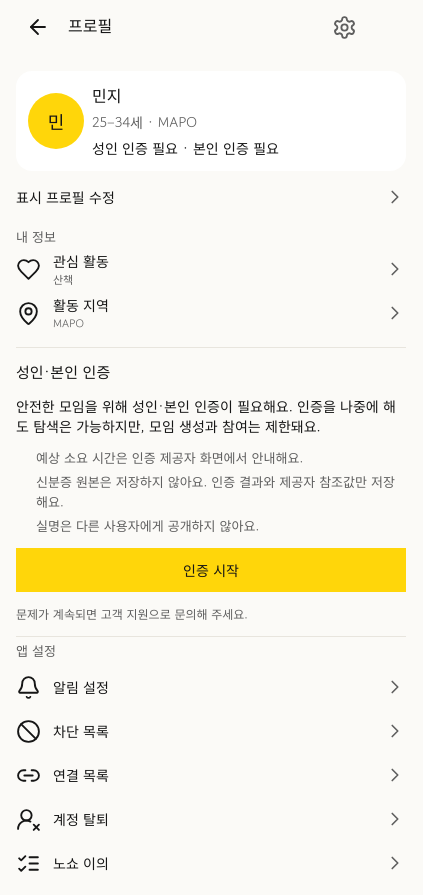
it: ProfilePage › waits for an explicit user action before navigating to a safe verification provider
Expected: the heading "민지" is shown, [92,83,122,107]
Click the button "인증 시작".
click(211, 570)  # box [16,548,406,592]
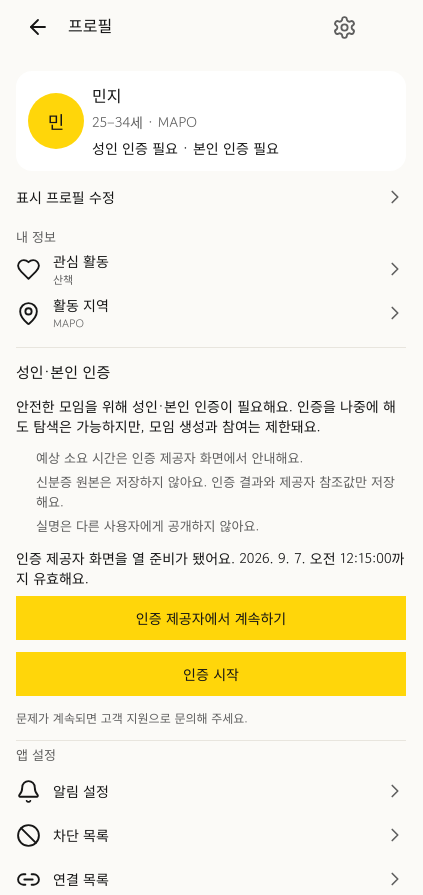
Expected: the button "인증 제공자에서 계속하기" is shown, [16,596,406,640]
